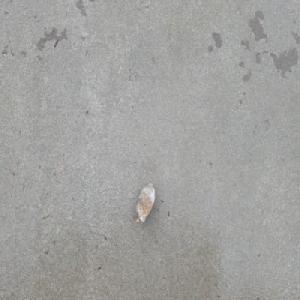Rock: (135, 181, 155, 225)
